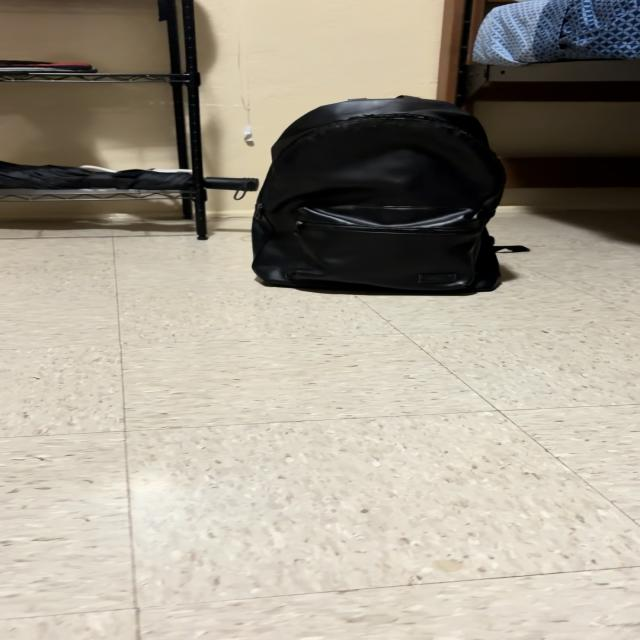backpack: (252, 96, 504, 292)
